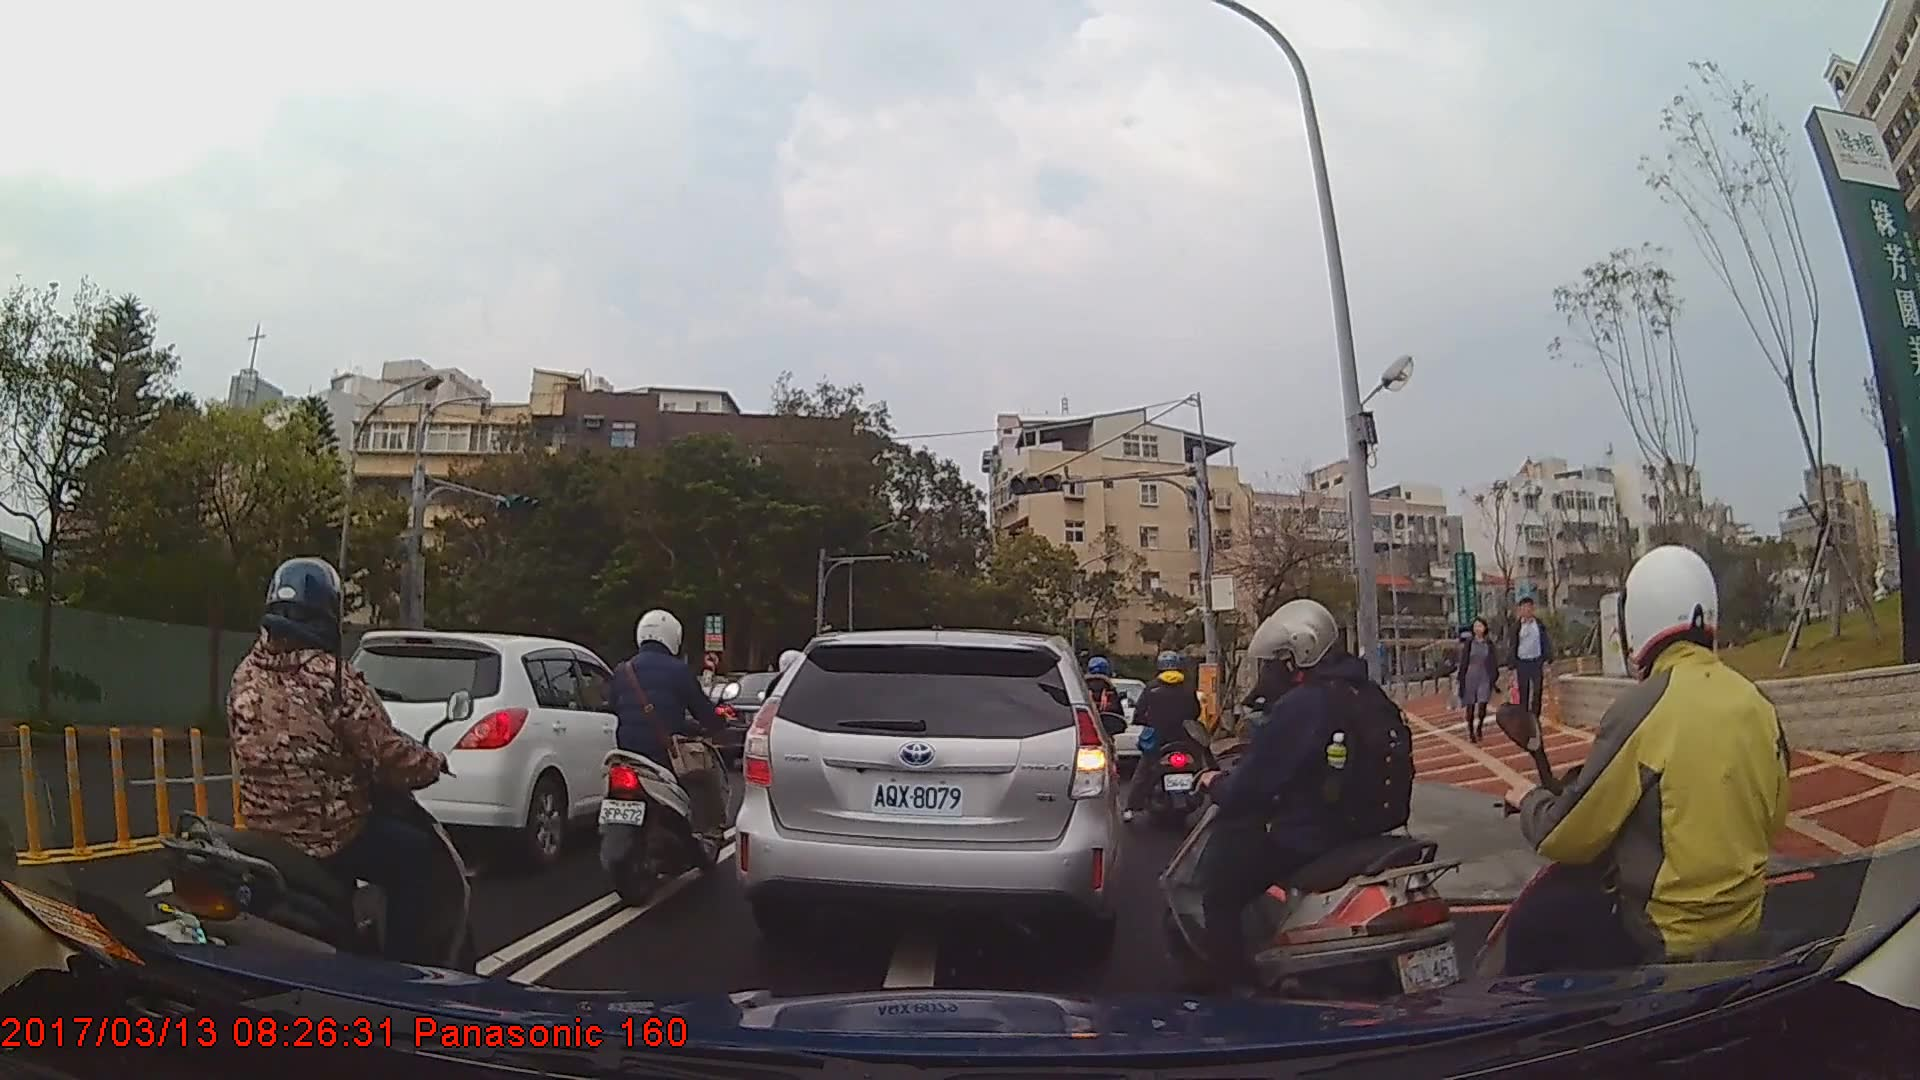pedestrian: (1507, 600, 1552, 748), (1451, 618, 1499, 744)
rider: (1466, 548, 1842, 1073), (154, 554, 479, 1005), (1158, 598, 1463, 1017), (595, 608, 743, 908), (1123, 644, 1225, 841)
vehicle: (731, 628, 1124, 953), (309, 629, 670, 859), (709, 673, 821, 770)
